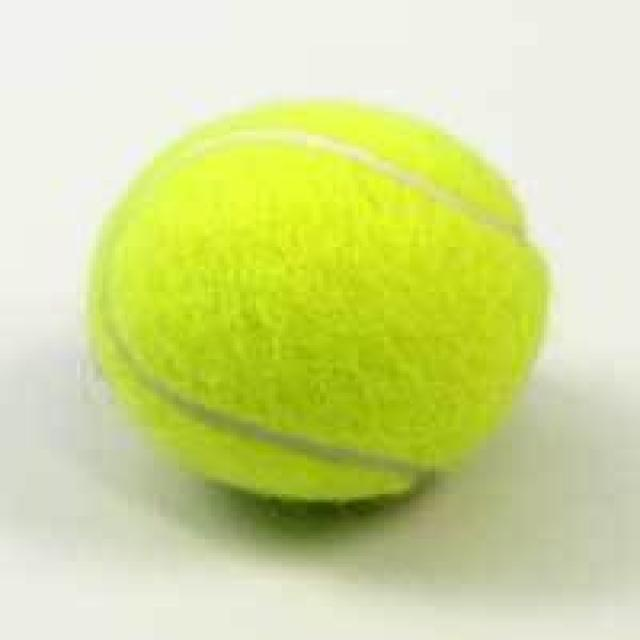Tennis Ball: (83, 93, 550, 511)
